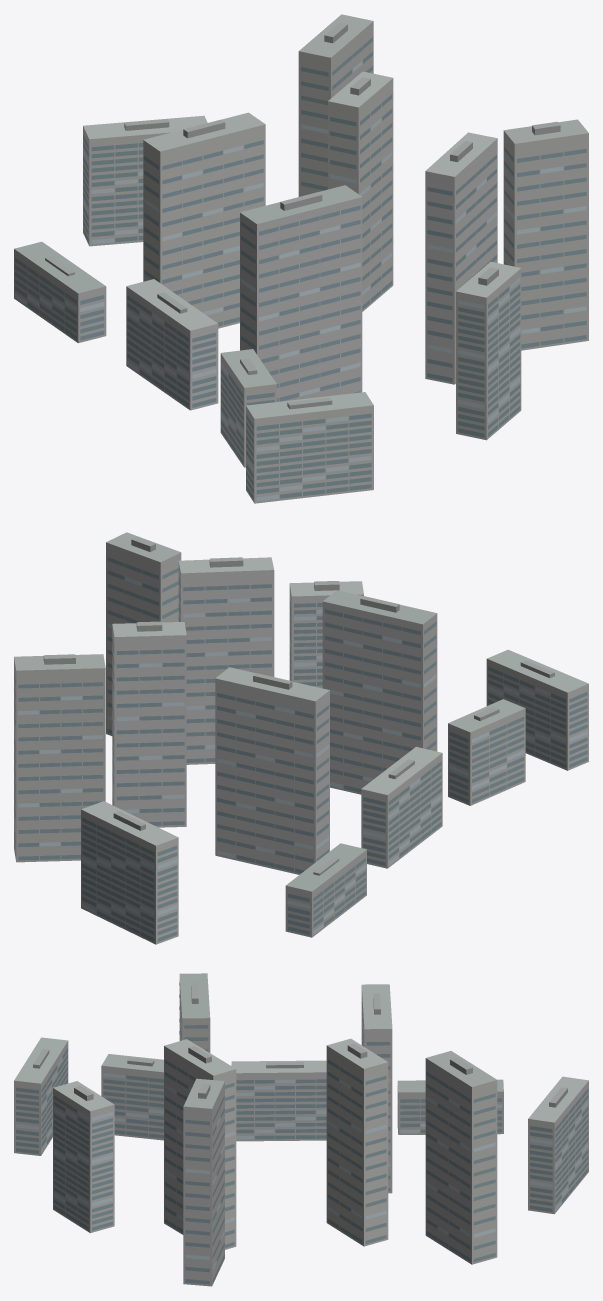
Rendered from apt-a10025024.glb.
The picture shows the model from 3 angles, top to bottom: view 1: azimuth 30°, elevation 25°; view 2: azimuth 150°, elevation 25°; view 3: azimuth 270°, elevation 25°; orthographic projection. The views are drawn at different scales.
Visible parts, largest first — view 1: apt-a10025024; view 2: apt-a10025024; view 3: apt-a10025024.
Part boxes in pixels (x1=…): apt-a10025024: x1=14, y1=14, x2=588, y2=503; apt-a10025024: x1=14, y1=532, x2=588, y2=944; apt-a10025024: x1=14, y1=973, x2=588, y2=1286.
Size of the model in its own units: 170 by 82 by 234.
